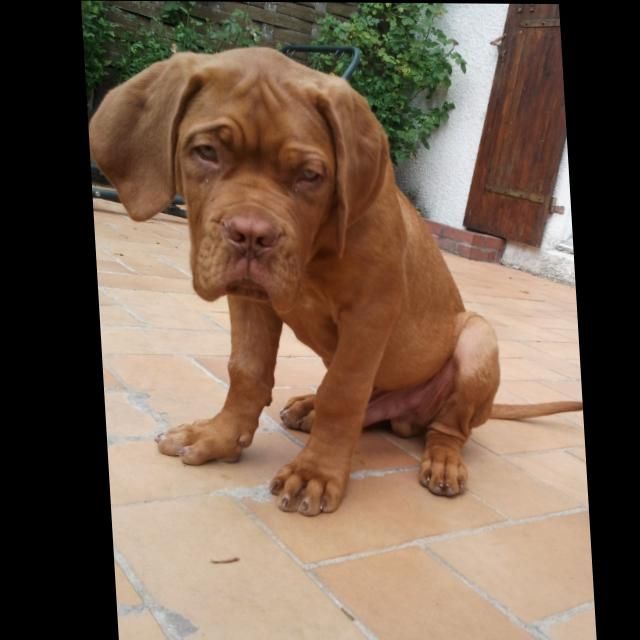dogue_de_bordeaux: (84, 44, 584, 519)
